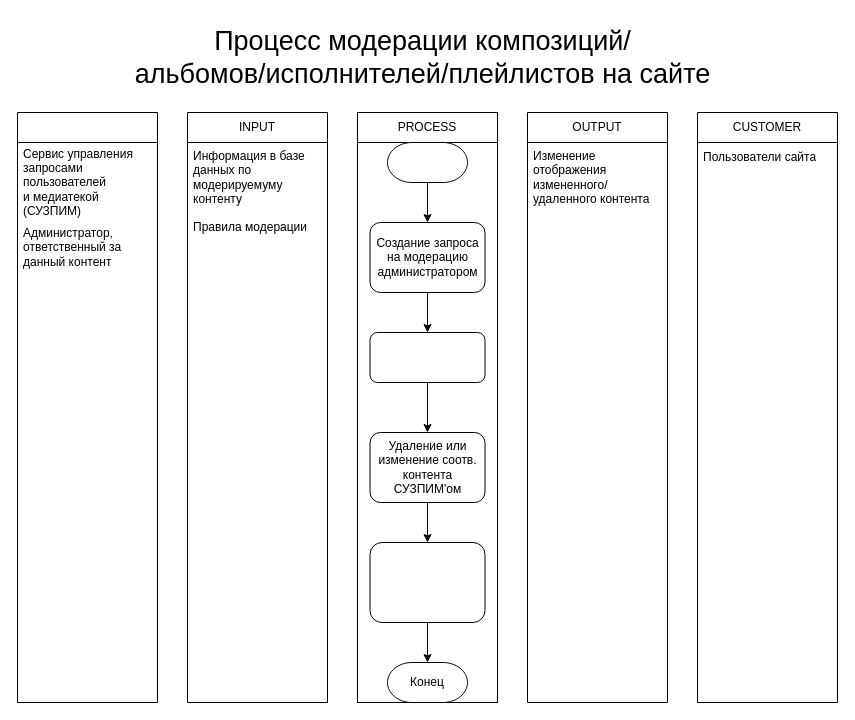
Image size: 855x720. Some labels were removed from this diagram. The box of each missing label's shape, as (x1, y1, x2, y2) in pixels:
SUPPLIER: (16, 112, 158, 702)
Изменение отображения данного контента у пользователей сайта: (369, 542, 485, 622)
Обращение к СУЗПИМ'у по данному запросу: (369, 332, 485, 382)
Старт: (386, 142, 468, 182)
